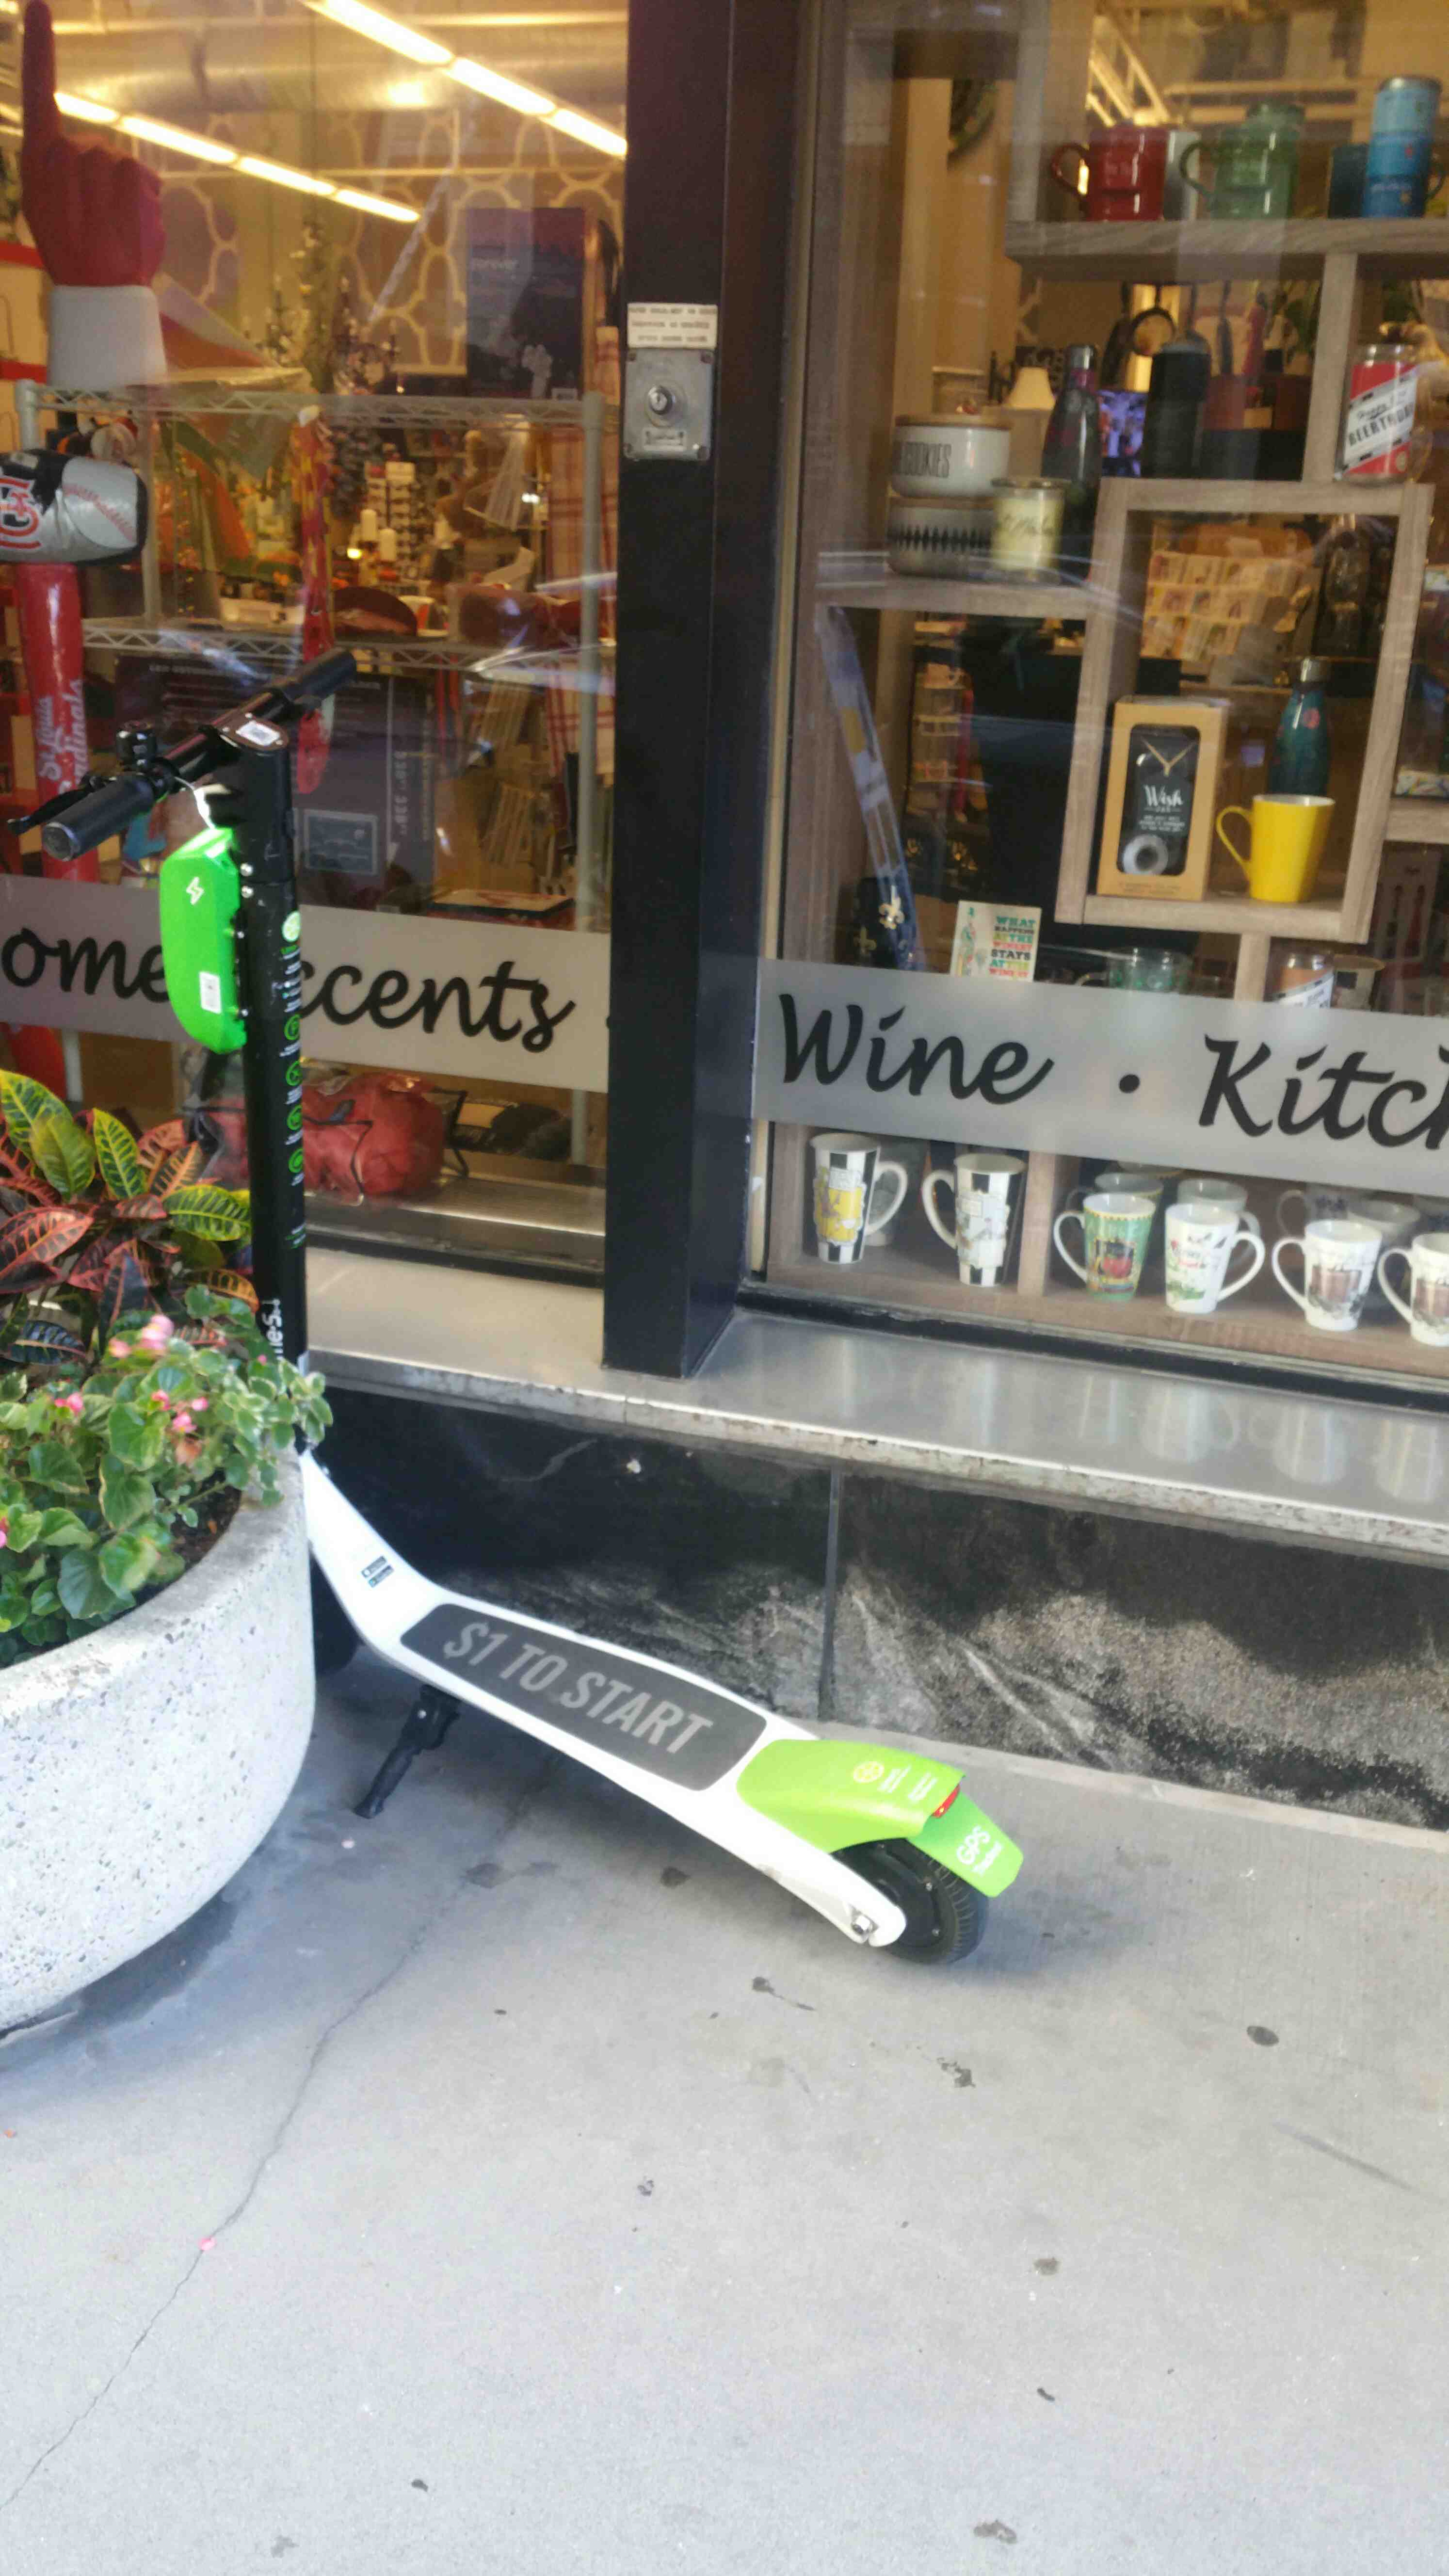scooter: (28, 617, 1035, 1990)
